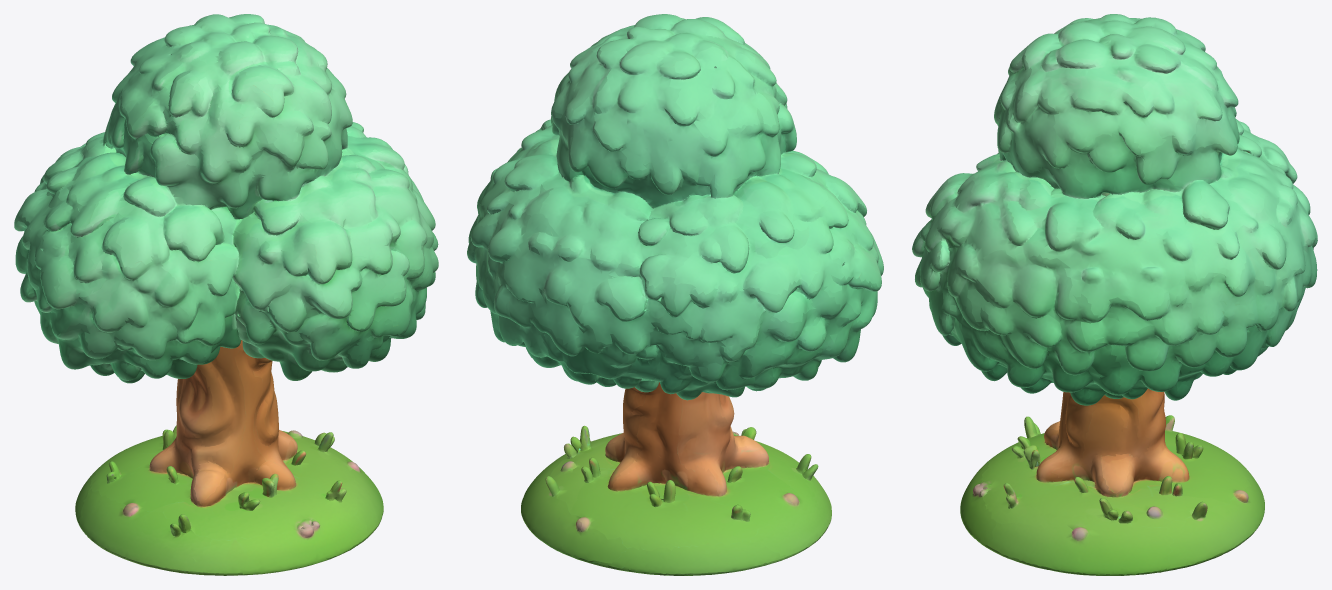
File: nat_tree_broadleaf_01.glb
3 views of the same model, side by side, from view 1: azimuth 30°, elevation 25°; view 2: azimuth 150°, elevation 25°; view 3: azimuth 270°, elevation 25° (orthographic).
Visible parts, largest first — view 1: geometry_0; view 2: geometry_0; view 3: geometry_0.
Part boxes in pixels (x1=…): geometry_0: x1=14, y1=14, x2=438, y2=575; geometry_0: x1=467, y1=14, x2=883, y2=575; geometry_0: x1=912, y1=14, x2=1317, y2=575.
Size of the model in its own units: 0.1225 by 0.15 by 0.1138.
Materials: 1 (1 with a texture image).
